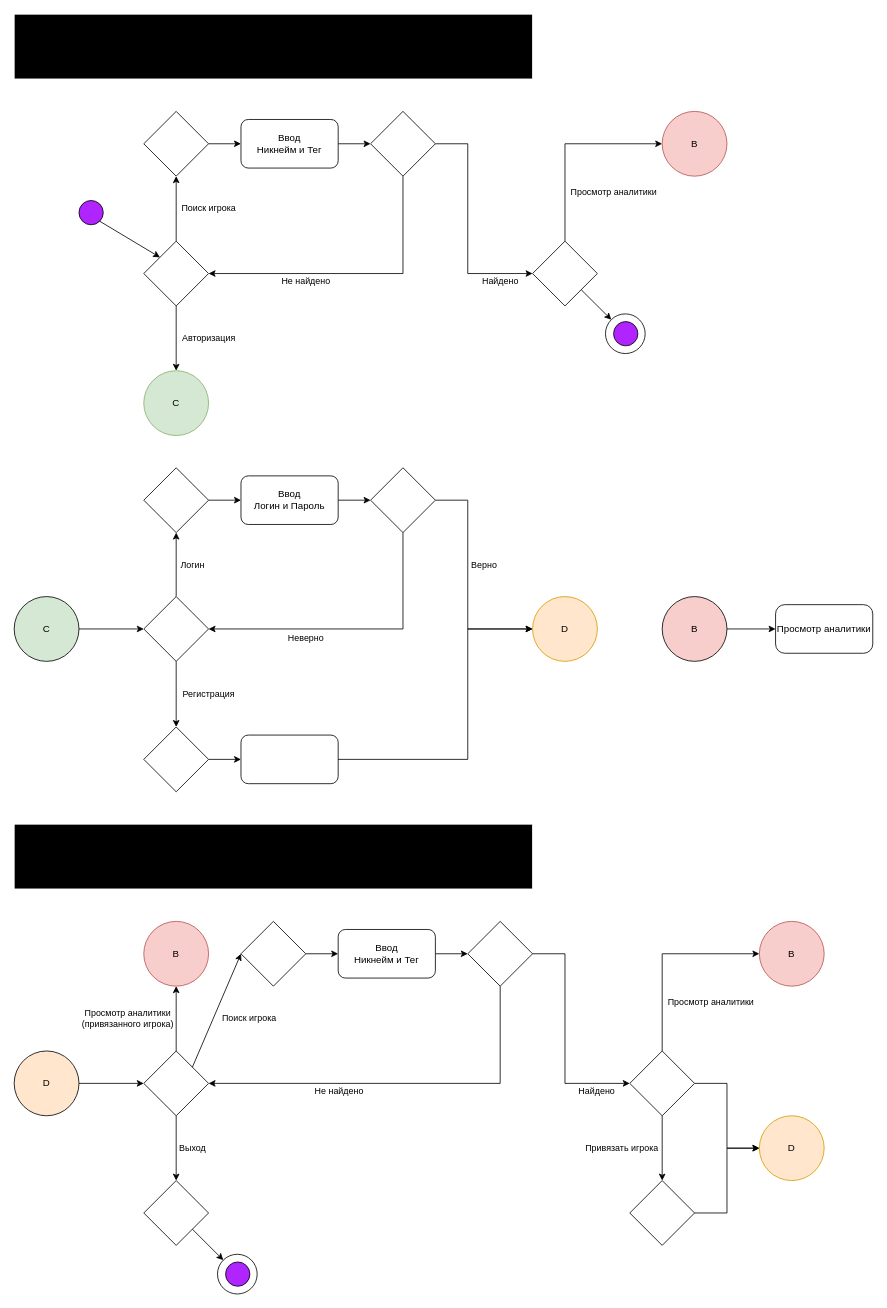
Image size: 887x1308. Some labels were removed from this diagram. The shapes that lost their labels are listed below. From the top down, each one's centre as x and y in pixels, then its label:
At point (273, 46): "Неавторизованный пользователь".
At point (289, 759): "Создать Логин и Пароль".
At point (273, 856): "Авторизованный пользователь".
